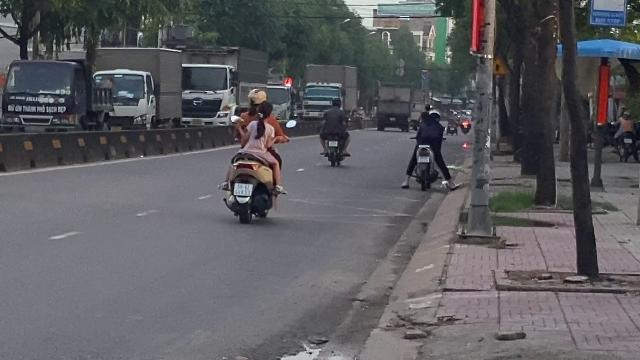helmet: (248, 88, 268, 106)
licenseplate: (234, 182, 252, 196)
motorcyclist: (220, 87, 286, 223)
nohelmet: (255, 100, 272, 120)
